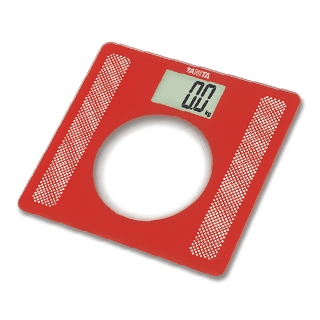LCD: (150, 68, 226, 121)
